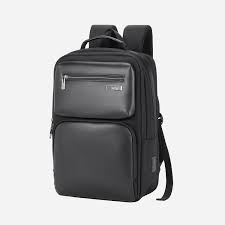backpack: (49, 23, 173, 202)
